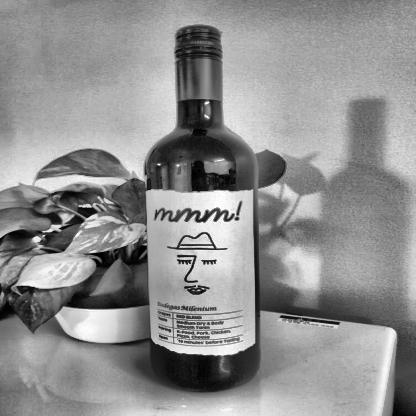umm: (148, 185, 256, 354)
